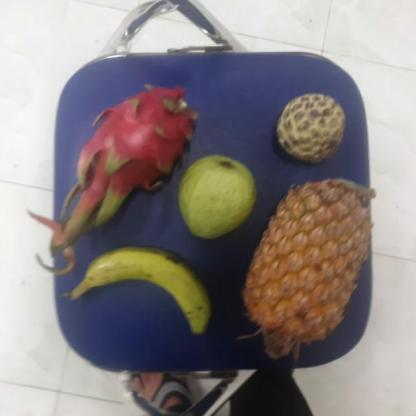annona: (272, 95, 346, 163)
guava: (176, 154, 257, 239)
pineapple: (246, 178, 366, 354)
pitaya: (76, 86, 196, 197)
